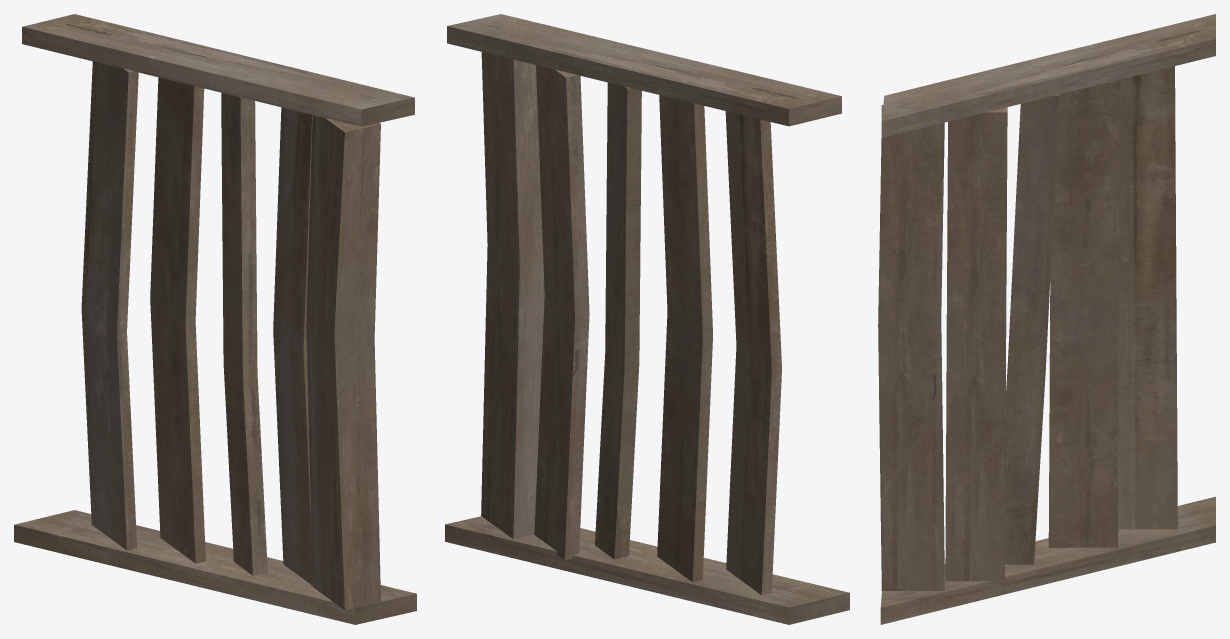
File: props_forest_wood_stairs48.glb
3 renders of one model, left to right at view 1: azimuth 30°, elevation 25°; view 2: azimuth 210°, elevation 25°; view 3: azimuth 270°, elevation 25°, orthographic. The views are drawn at different scales.
Visible parts, largest first — view 1: models/props_forest/wood_stairs48; view 2: models/props_forest/wood_stairs48; view 3: models/props_forest/wood_stairs48.
Boxes of the visible parts, x1=… form: models/props_forest/wood_stairs48: x1=14, y1=14, x2=416, y2=624; models/props_forest/wood_stairs48: x1=445, y1=14, x2=849, y2=624; models/props_forest/wood_stairs48: x1=878, y1=14, x2=1215, y2=624.
Size of the model in its own units: 52.35 by 111 by 67.33.
1 material, 1 textured.
